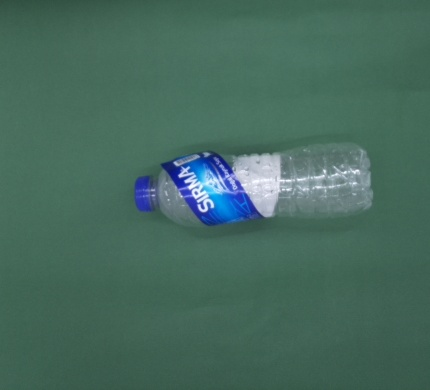plastic_bottle: (133, 142, 374, 230)
